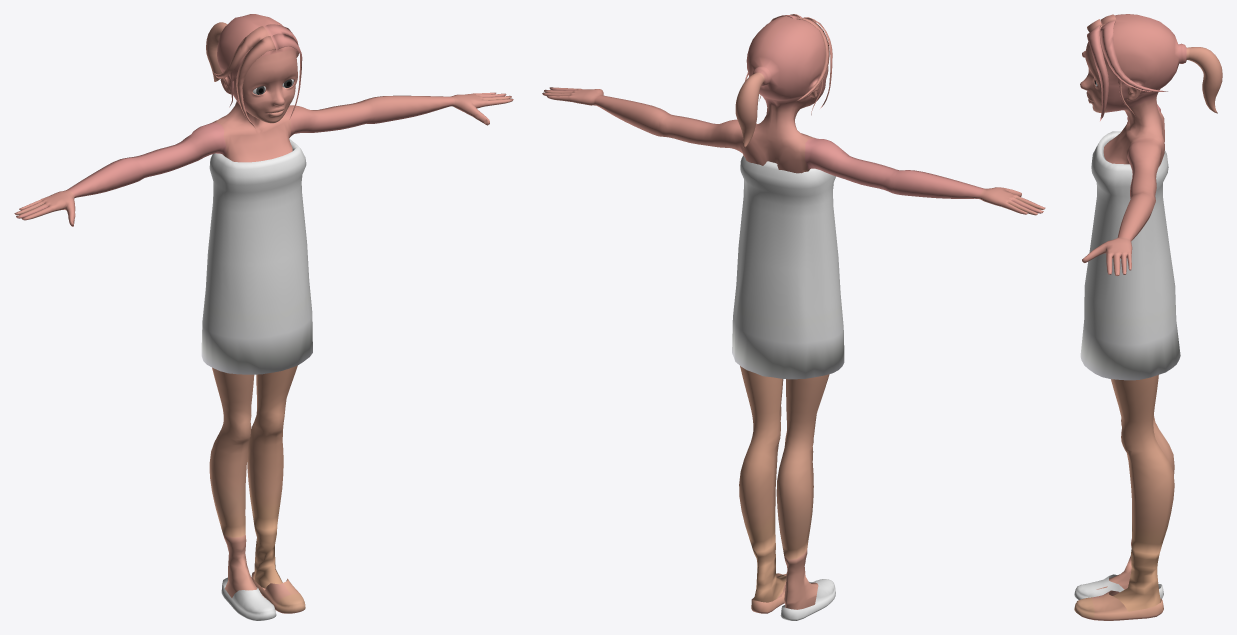
Rendered from kirli_hali.fbx.
3 views of the same model, side by side, from view 1: azimuth 30°, elevation 25°; view 2: azimuth 150°, elevation 25°; view 3: azimuth 270°, elevation 25° (orthographic).
Parts seen in each view (by area): view 1: Object_7.008; view 2: Object_7.008; view 3: Object_7.008.
Part boxes in pixels (x1,y1,x2,y2): Object_7.008: [14, 14, 513, 620]; Object_7.008: [542, 14, 1045, 620]; Object_7.008: [1074, 14, 1222, 620].
Size of the model in its own units: 14246 by 15943 by 3640.
1 material, 1 textured.
